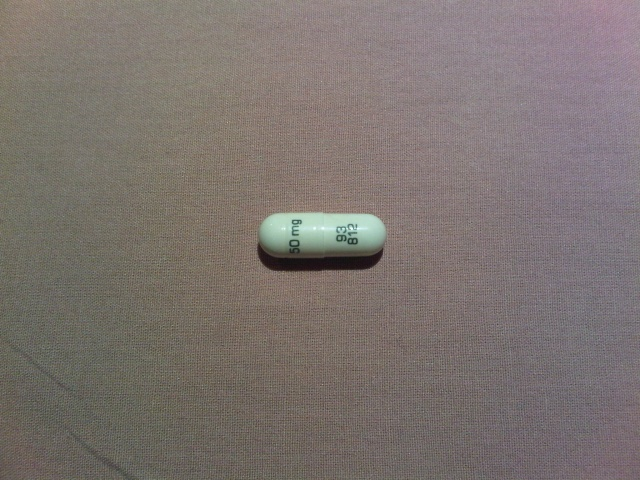capsule: (257, 211, 386, 263)
